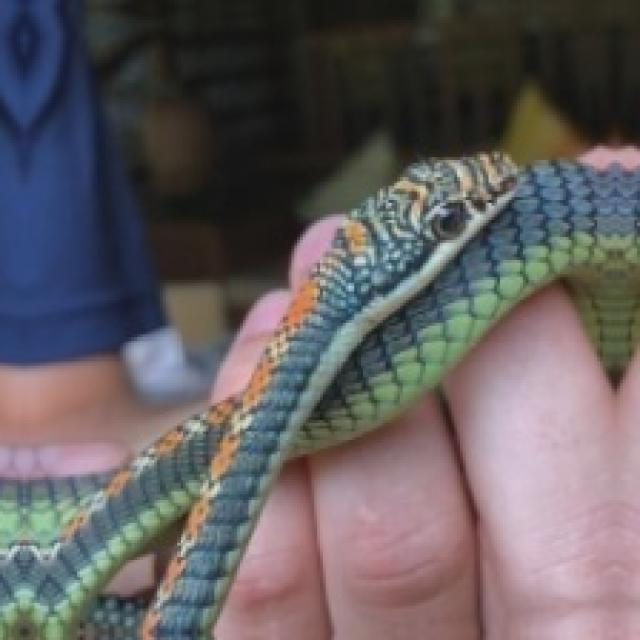paradise tree snake: (0, 151, 637, 637)
